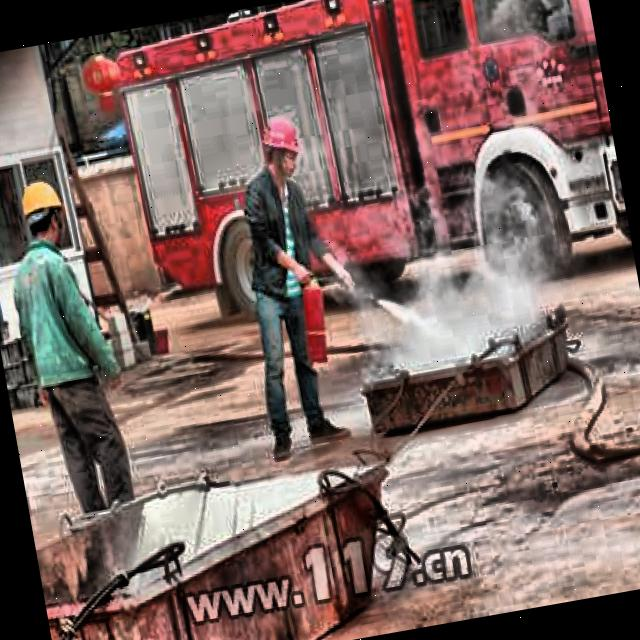helmet: (14, 172, 73, 254), (258, 108, 308, 187)
